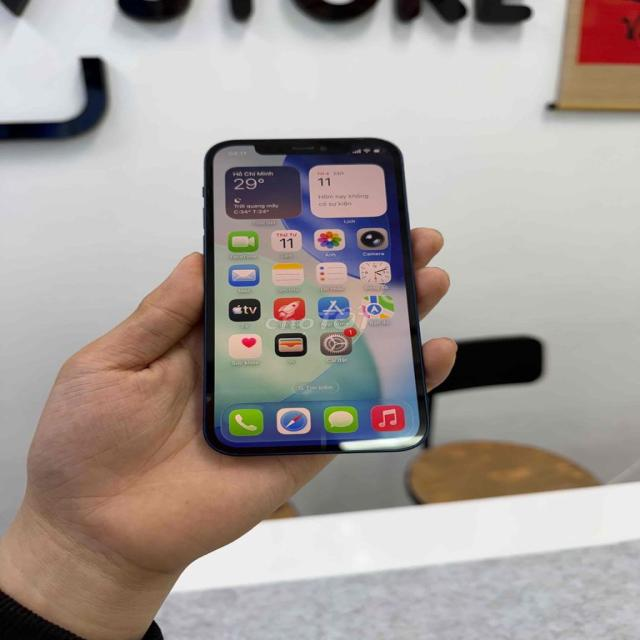gen_12_13: (203, 136, 435, 452)
